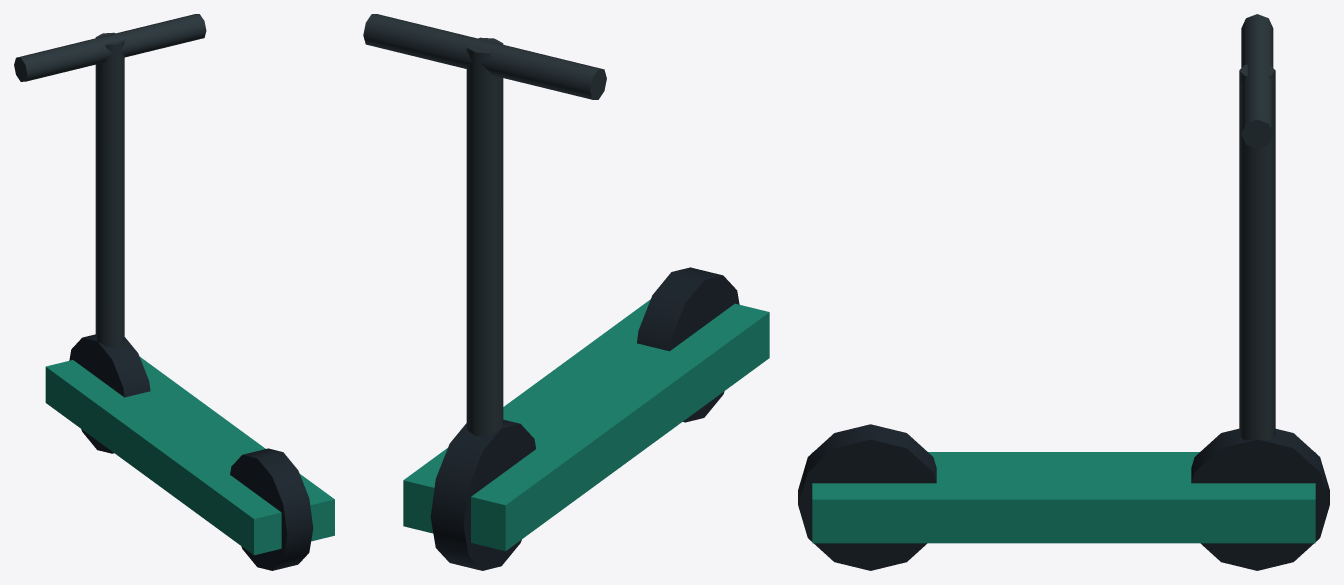
Rendered from scooter.glb.
3 views of the same model, side by side, from view 1: azimuth 30°, elevation 25°; view 2: azimuth 150°, elevation 25°; view 3: azimuth 270°, elevation 25° (orthographic). The views are drawn at different scales.
Bounding box in the file's own units: 0.62 × 1.36 × 1.32.
